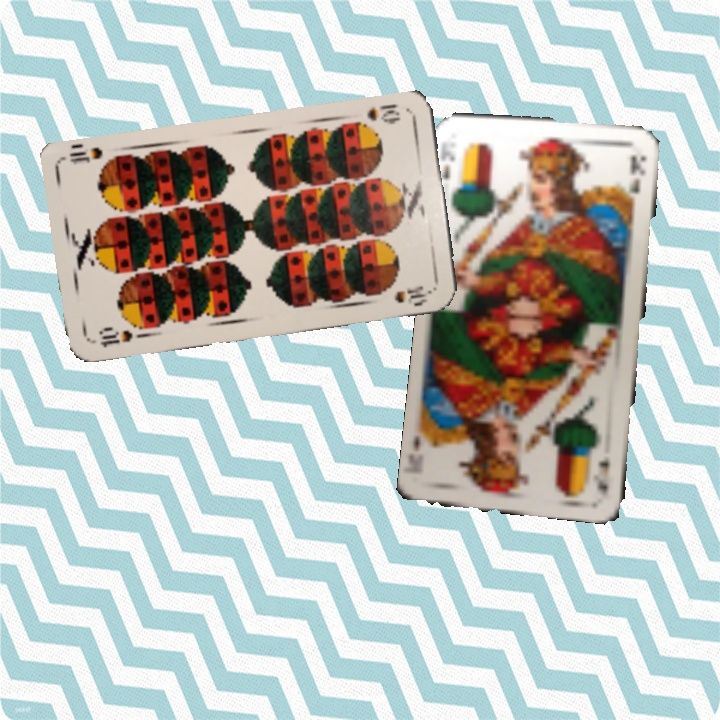EK: (438, 138, 459, 182), (593, 452, 611, 497)
S10: (362, 99, 403, 126), (95, 326, 135, 350)
